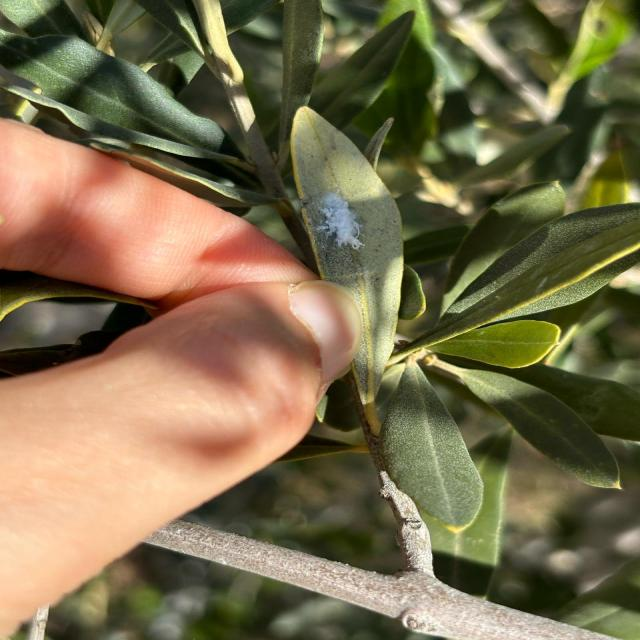Psyllid: (302, 178, 402, 278)
